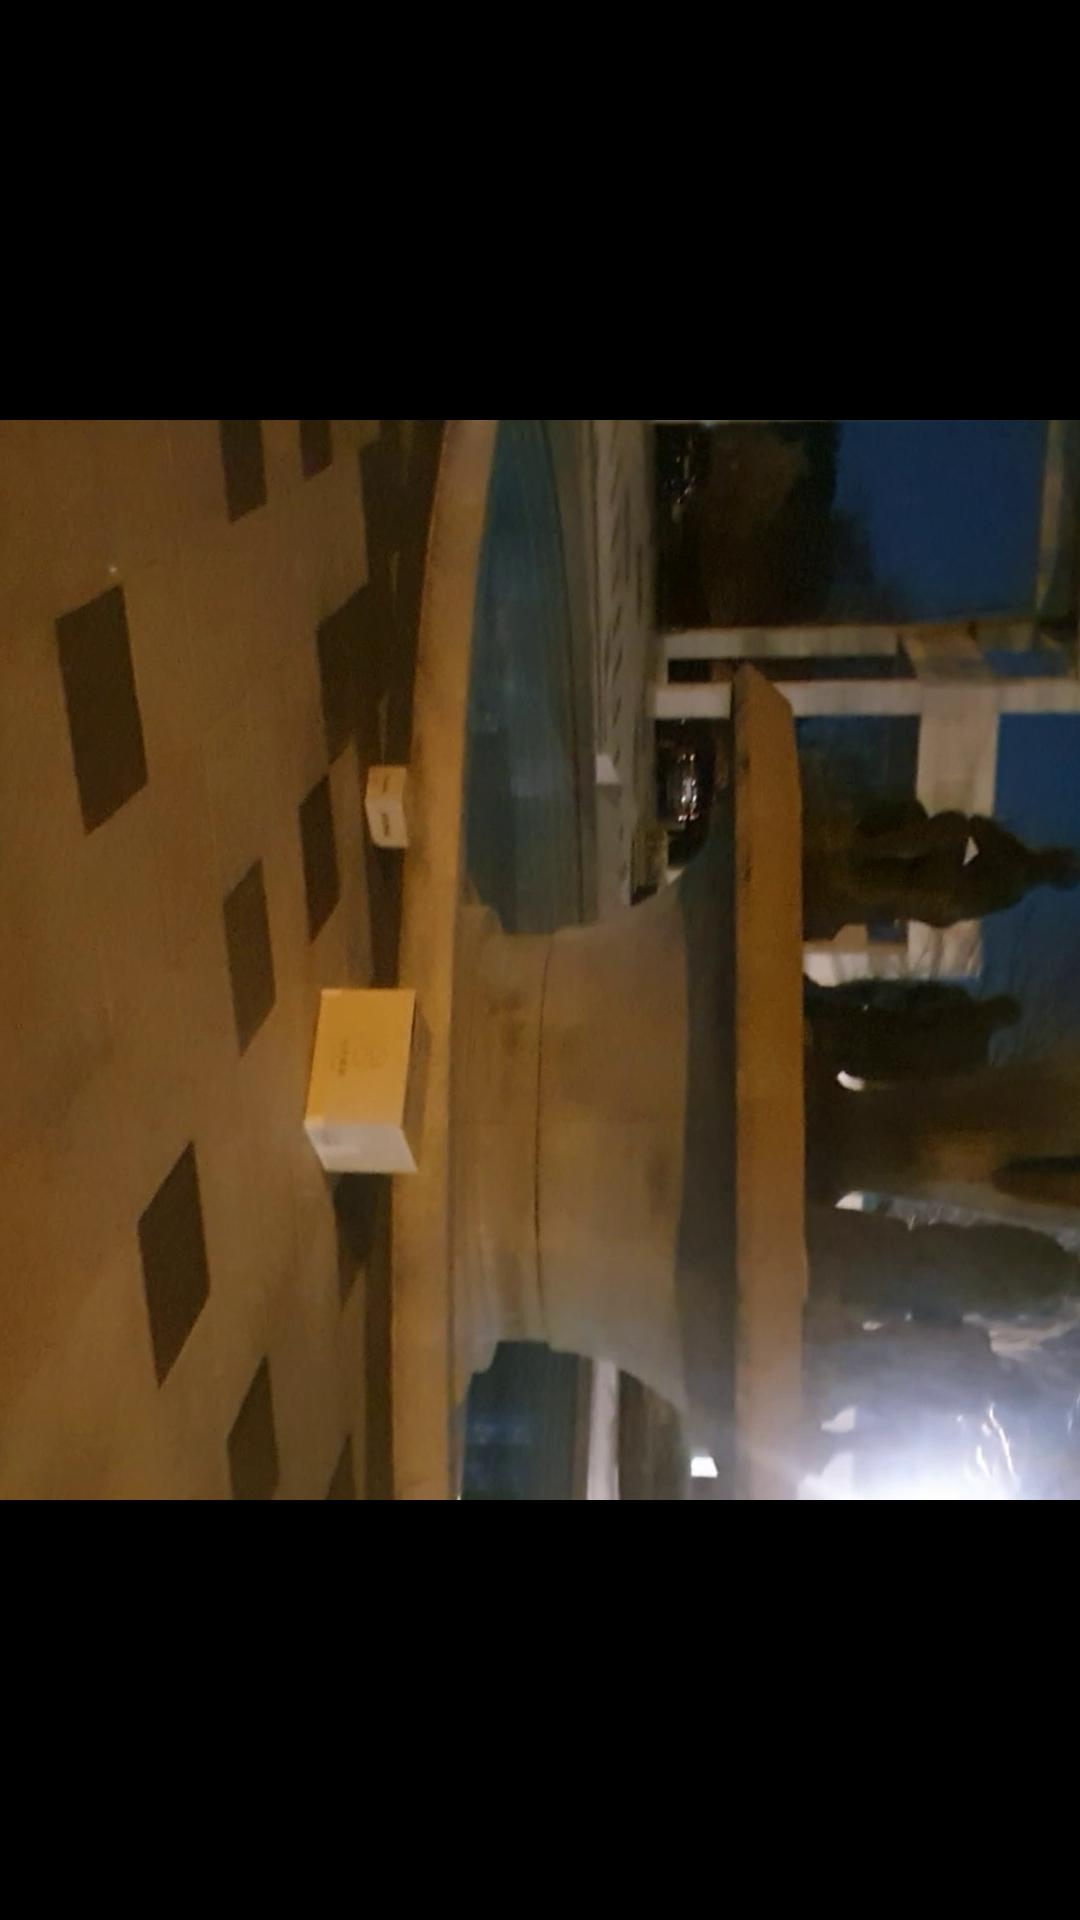Box: (291, 971, 436, 1189), (355, 753, 430, 857)
